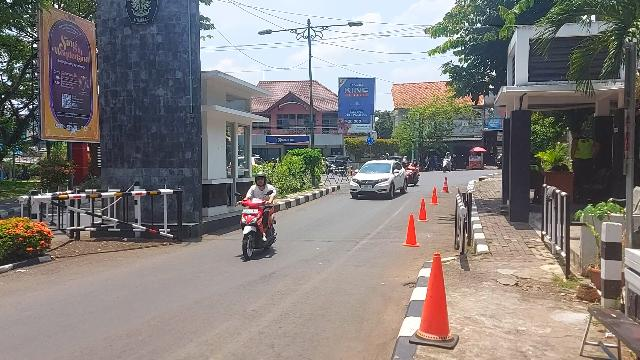helm: (256, 173, 268, 187)
motor: (237, 200, 278, 260)
